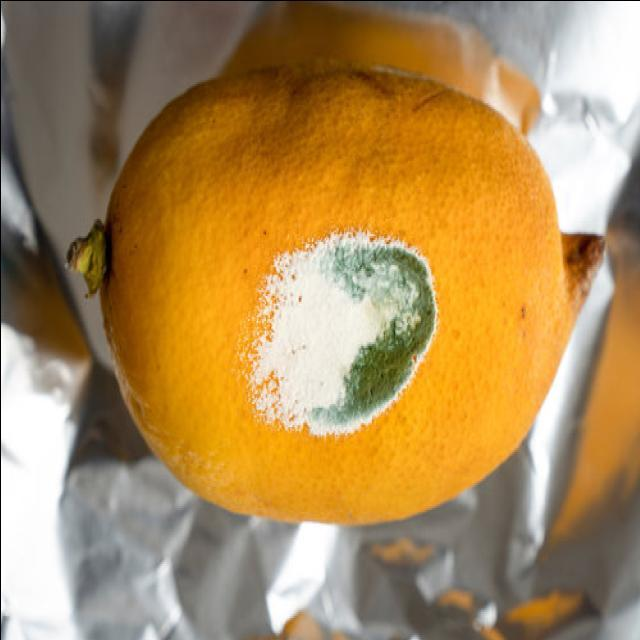Rotten: (65, 55, 607, 526)
